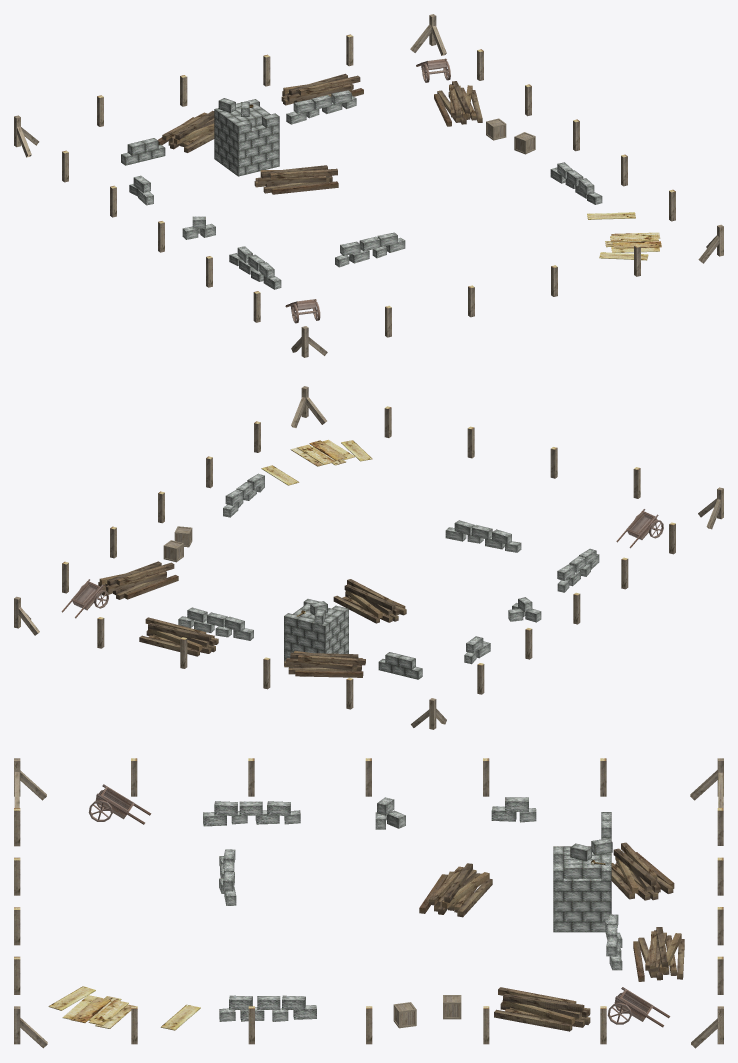
Rendered from fndn_10x12.glb.
3 renders of one model, top to bottom at view 1: azimuth 30°, elevation 25°; view 2: azimuth 150°, elevation 25°; view 3: azimuth 270°, elevation 25°, orthographic. The views are drawn at different scales.
Visible parts, largest first — view 1: fndn_10x12_part25, fndn_10x12_part48, fndn_10x12_part47, fndn_10x12_part46, fndn_10x12_part40, fndn_10x12_part45, fndn_10x12_part42, fndn_10x12_part29, fndn_10x12_part38, fndn_10x12_part39, fndn_10x12_part1; view 2: fndn_10x12_part25, fndn_10x12_part46, fndn_10x12_part47, fndn_10x12_part45, fndn_10x12_part48, fndn_10x12_part29, fndn_10x12_part42, fndn_10x12_part40, fndn_10x12_part38, fndn_10x12_part39, fndn_10x12_part44, fndn_10x12_part43 (+2 smaller); view 3: fndn_10x12_part25, fndn_10x12_part47, fndn_10x12_part48, fndn_10x12_part46, fndn_10x12_part45, fndn_10x12_part42, fndn_10x12_part39, fndn_10x12_part38, fndn_10x12_part43, fndn_10x12_part44, fndn_10x12_part37, fndn_10x12_part40 (+8 smaller).
Boxes of the visible parts, bbox=[...] form: fndn_10x12_part25: bbox=[214, 99, 279, 176]; fndn_10x12_part48: bbox=[254, 165, 338, 194]; fndn_10x12_part47: bbox=[434, 81, 482, 126]; fndn_10x12_part46: bbox=[158, 110, 214, 152]; fndn_10x12_part40: bbox=[335, 232, 405, 267]; fndn_10x12_part45: bbox=[281, 73, 363, 105]; fndn_10x12_part42: bbox=[599, 232, 661, 260]; fndn_10x12_part29: bbox=[286, 90, 356, 124]; fndn_10x12_part38: bbox=[229, 246, 281, 289]; fndn_10x12_part39: bbox=[550, 162, 602, 204]; fndn_10x12_part1: bbox=[410, 14, 446, 55]; fndn_10x12_part25: bbox=[284, 599, 348, 667]; fndn_10x12_part46: bbox=[284, 650, 365, 677]; fndn_10x12_part47: bbox=[98, 561, 178, 599]; fndn_10x12_part45: bbox=[139, 617, 218, 656]; fndn_10x12_part48: bbox=[333, 579, 406, 623]; fndn_10x12_part29: bbox=[178, 607, 253, 640]; fndn_10x12_part42: bbox=[290, 439, 372, 466]; fndn_10x12_part40: bbox=[445, 520, 521, 552]; fndn_10x12_part38: bbox=[557, 548, 599, 592]; fndn_10x12_part39: bbox=[223, 473, 264, 517]; fndn_10x12_part44: bbox=[616, 509, 663, 548]; fndn_10x12_part43: bbox=[61, 579, 108, 618]; fndn_10x12_part25: bbox=[553, 846, 611, 932]; fndn_10x12_part47: bbox=[494, 987, 590, 1031]; fndn_10x12_part48: bbox=[419, 863, 492, 917]; fndn_10x12_part46: bbox=[611, 842, 674, 900]; fndn_10x12_part45: bbox=[633, 927, 684, 981]; fndn_10x12_part42: bbox=[48, 986, 135, 1028]; fndn_10x12_part39: bbox=[219, 995, 316, 1021]; fndn_10x12_part38: bbox=[203, 801, 300, 826]; fndn_10x12_part43: bbox=[607, 987, 670, 1027]; fndn_10x12_part44: bbox=[88, 784, 151, 824]; fndn_10x12_part37: bbox=[491, 797, 536, 822]; fndn_10x12_part40: bbox=[219, 849, 236, 905].
Size of the model in its own units: 8.49 by 1.17 by 10.17.
Materials: 5 (5 with a texture image).
